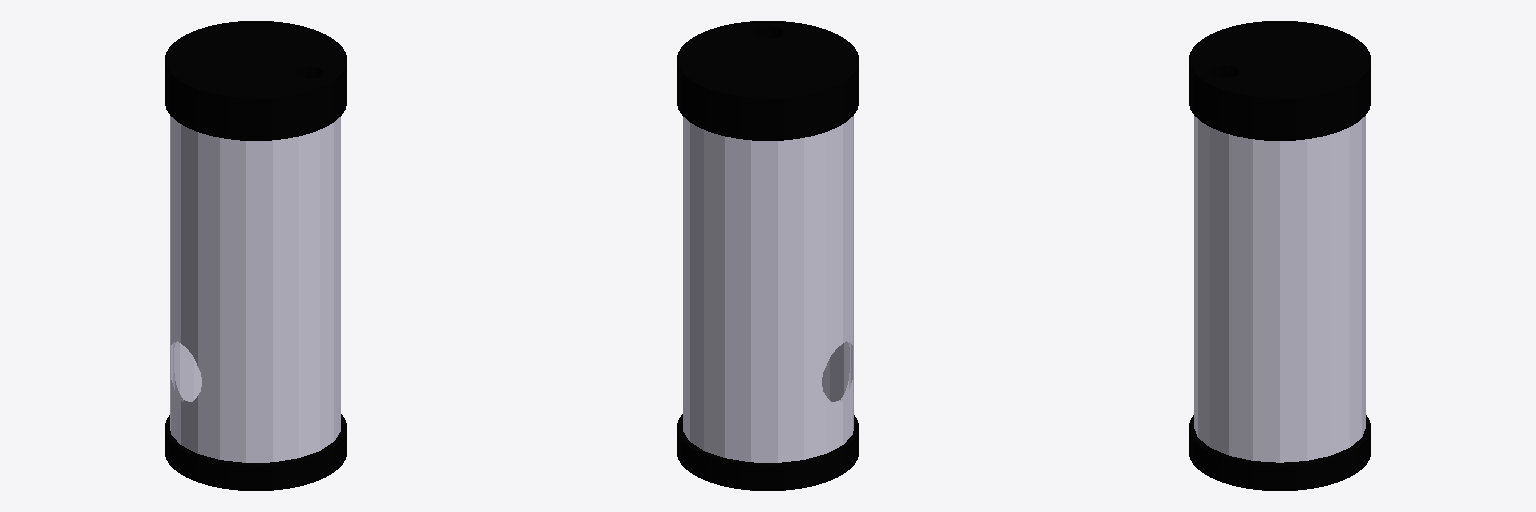
3 views of the same model, side by side, from view 1: azimuth 30°, elevation 25°; view 2: azimuth 150°, elevation 25°; view 3: azimuth 270°, elevation 25° (orthographic).
Parts seen in each view (by area): view 1: Temp9:polySurface3 Temp9:polySurface70 Temp9:polySurface1, Temp9:pCylinder4 Temp9:polySurface1, Temp9:pCylinder2 Temp9:polySurface1; view 2: Temp9:polySurface3 Temp9:polySurface70 Temp9:polySurface1, Temp9:pCylinder4 Temp9:polySurface1, Temp9:pCylinder2 Temp9:polySurface1; view 3: Temp9:polySurface3 Temp9:polySurface70 Temp9:polySurface1, Temp9:pCylinder4 Temp9:polySurface1, Temp9:pCylinder2 Temp9:polySurface1.
Boxes of the visible parts, x1=… form: Temp9:polySurface3 Temp9:polySurface70 Temp9:polySurface1: x1=170, y1=116, x2=340, y2=462; Temp9:pCylinder4 Temp9:polySurface1: x1=165, y1=21, x2=346, y2=140; Temp9:pCylinder2 Temp9:polySurface1: x1=165, y1=414, x2=346, y2=490; Temp9:polySurface3 Temp9:polySurface70 Temp9:polySurface1: x1=683, y1=116, x2=853, y2=462; Temp9:pCylinder4 Temp9:polySurface1: x1=677, y1=21, x2=858, y2=140; Temp9:pCylinder2 Temp9:polySurface1: x1=677, y1=414, x2=858, y2=490; Temp9:polySurface3 Temp9:polySurface70 Temp9:polySurface1: x1=1194, y1=116, x2=1365, y2=462; Temp9:pCylinder4 Temp9:polySurface1: x1=1189, y1=21, x2=1370, y2=140; Temp9:pCylinder2 Temp9:polySurface1: x1=1189, y1=415, x2=1370, y2=490.
Bounding box in the file's own units: 10.58 × 25.17 × 10.58.
Materials: 1 (1 with a texture image).